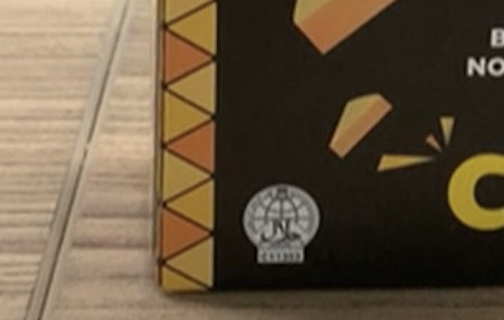halal: (260, 193, 303, 246)
